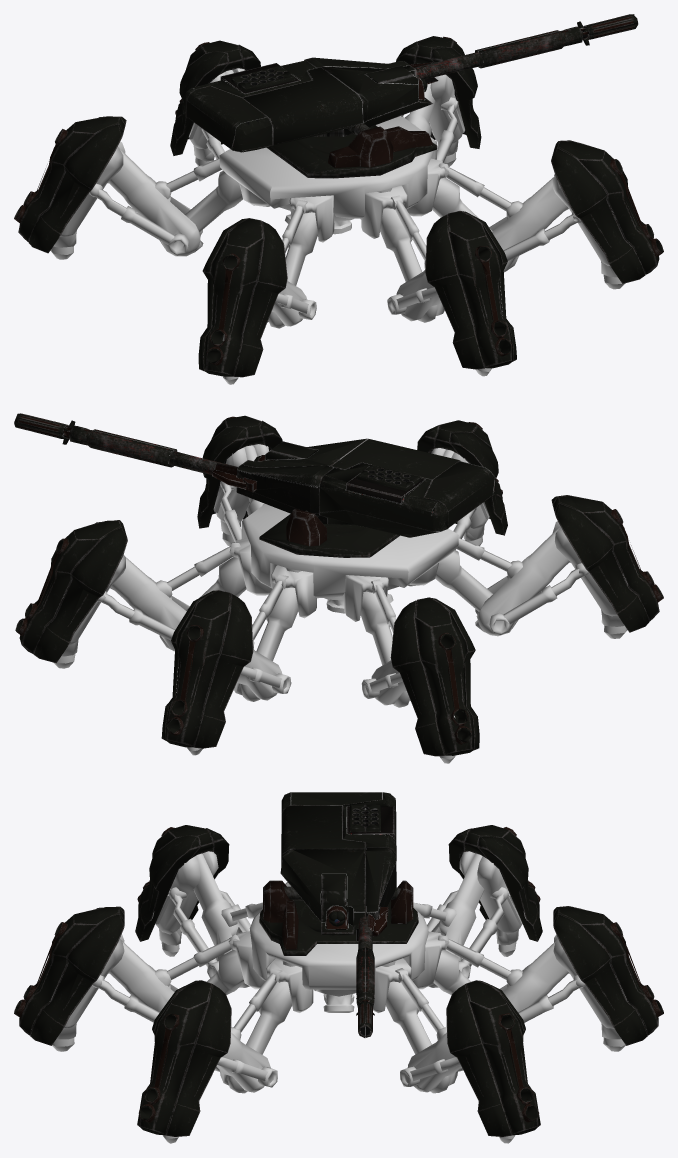
File: spiderboy.fbx
3 renders of one model, top to bottom at view 1: azimuth 30°, elevation 25°; view 2: azimuth 150°, elevation 25°; view 3: azimuth 270°, elevation 25°, orthographic.
Parts seen in each view (by area): view 1: pCube15; view 2: pCube15; view 3: pCube15.
Boxes of the visible parts, x1,y1,x2,y2 form: pCube15: (14,14,663,384); pCube15: (14,413,663,763); pCube15: (14,792,663,1143).
Bounding box in the file's own units: 46.57 × 16.77 × 49.09.
